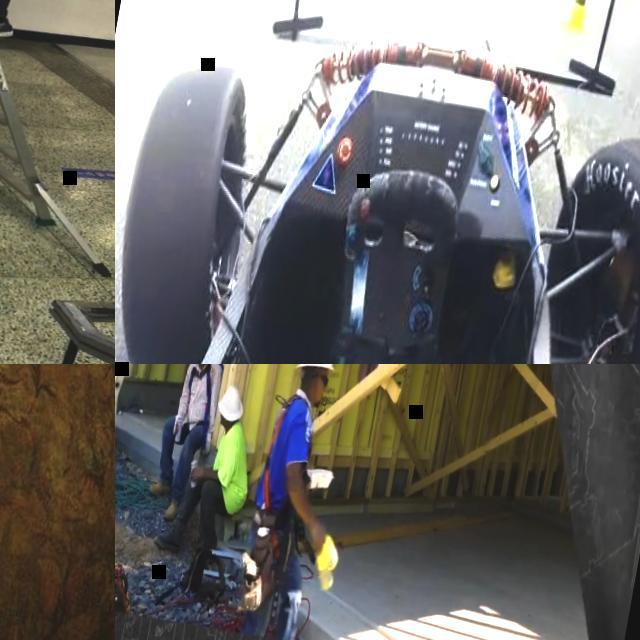Helmet: (213, 382, 249, 426), (294, 360, 338, 375)
Robbery: (256, 360, 352, 640), (191, 389, 249, 592), (168, 356, 222, 508)
